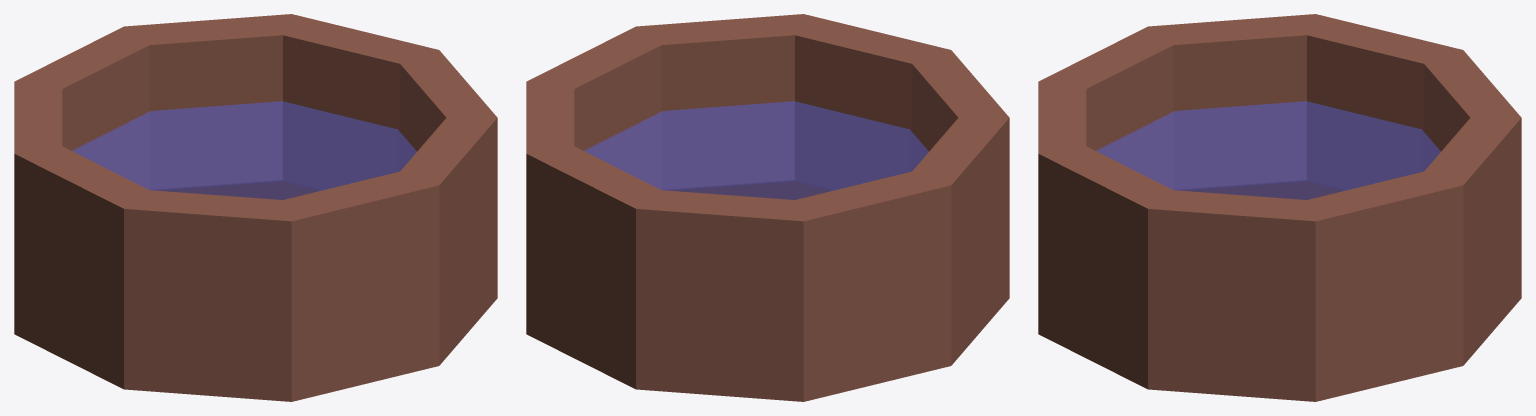
Rendered from well.glb.
3 views of the same model, side by side, from view 1: azimuth 30°, elevation 25°; view 2: azimuth 150°, elevation 25°; view 3: azimuth 270°, elevation 25° (orthographic).
Visible parts, largest first — view 1: Cylinder; view 2: Cylinder; view 3: Cylinder.
Boxes of the visible parts, x1,y1,x2,y2 form: Cylinder: [14, 14, 497, 401]; Cylinder: [526, 14, 1009, 401]; Cylinder: [1038, 14, 1521, 401].
Size of the model in its own units: 0.9848 by 0.4 by 0.9698.
